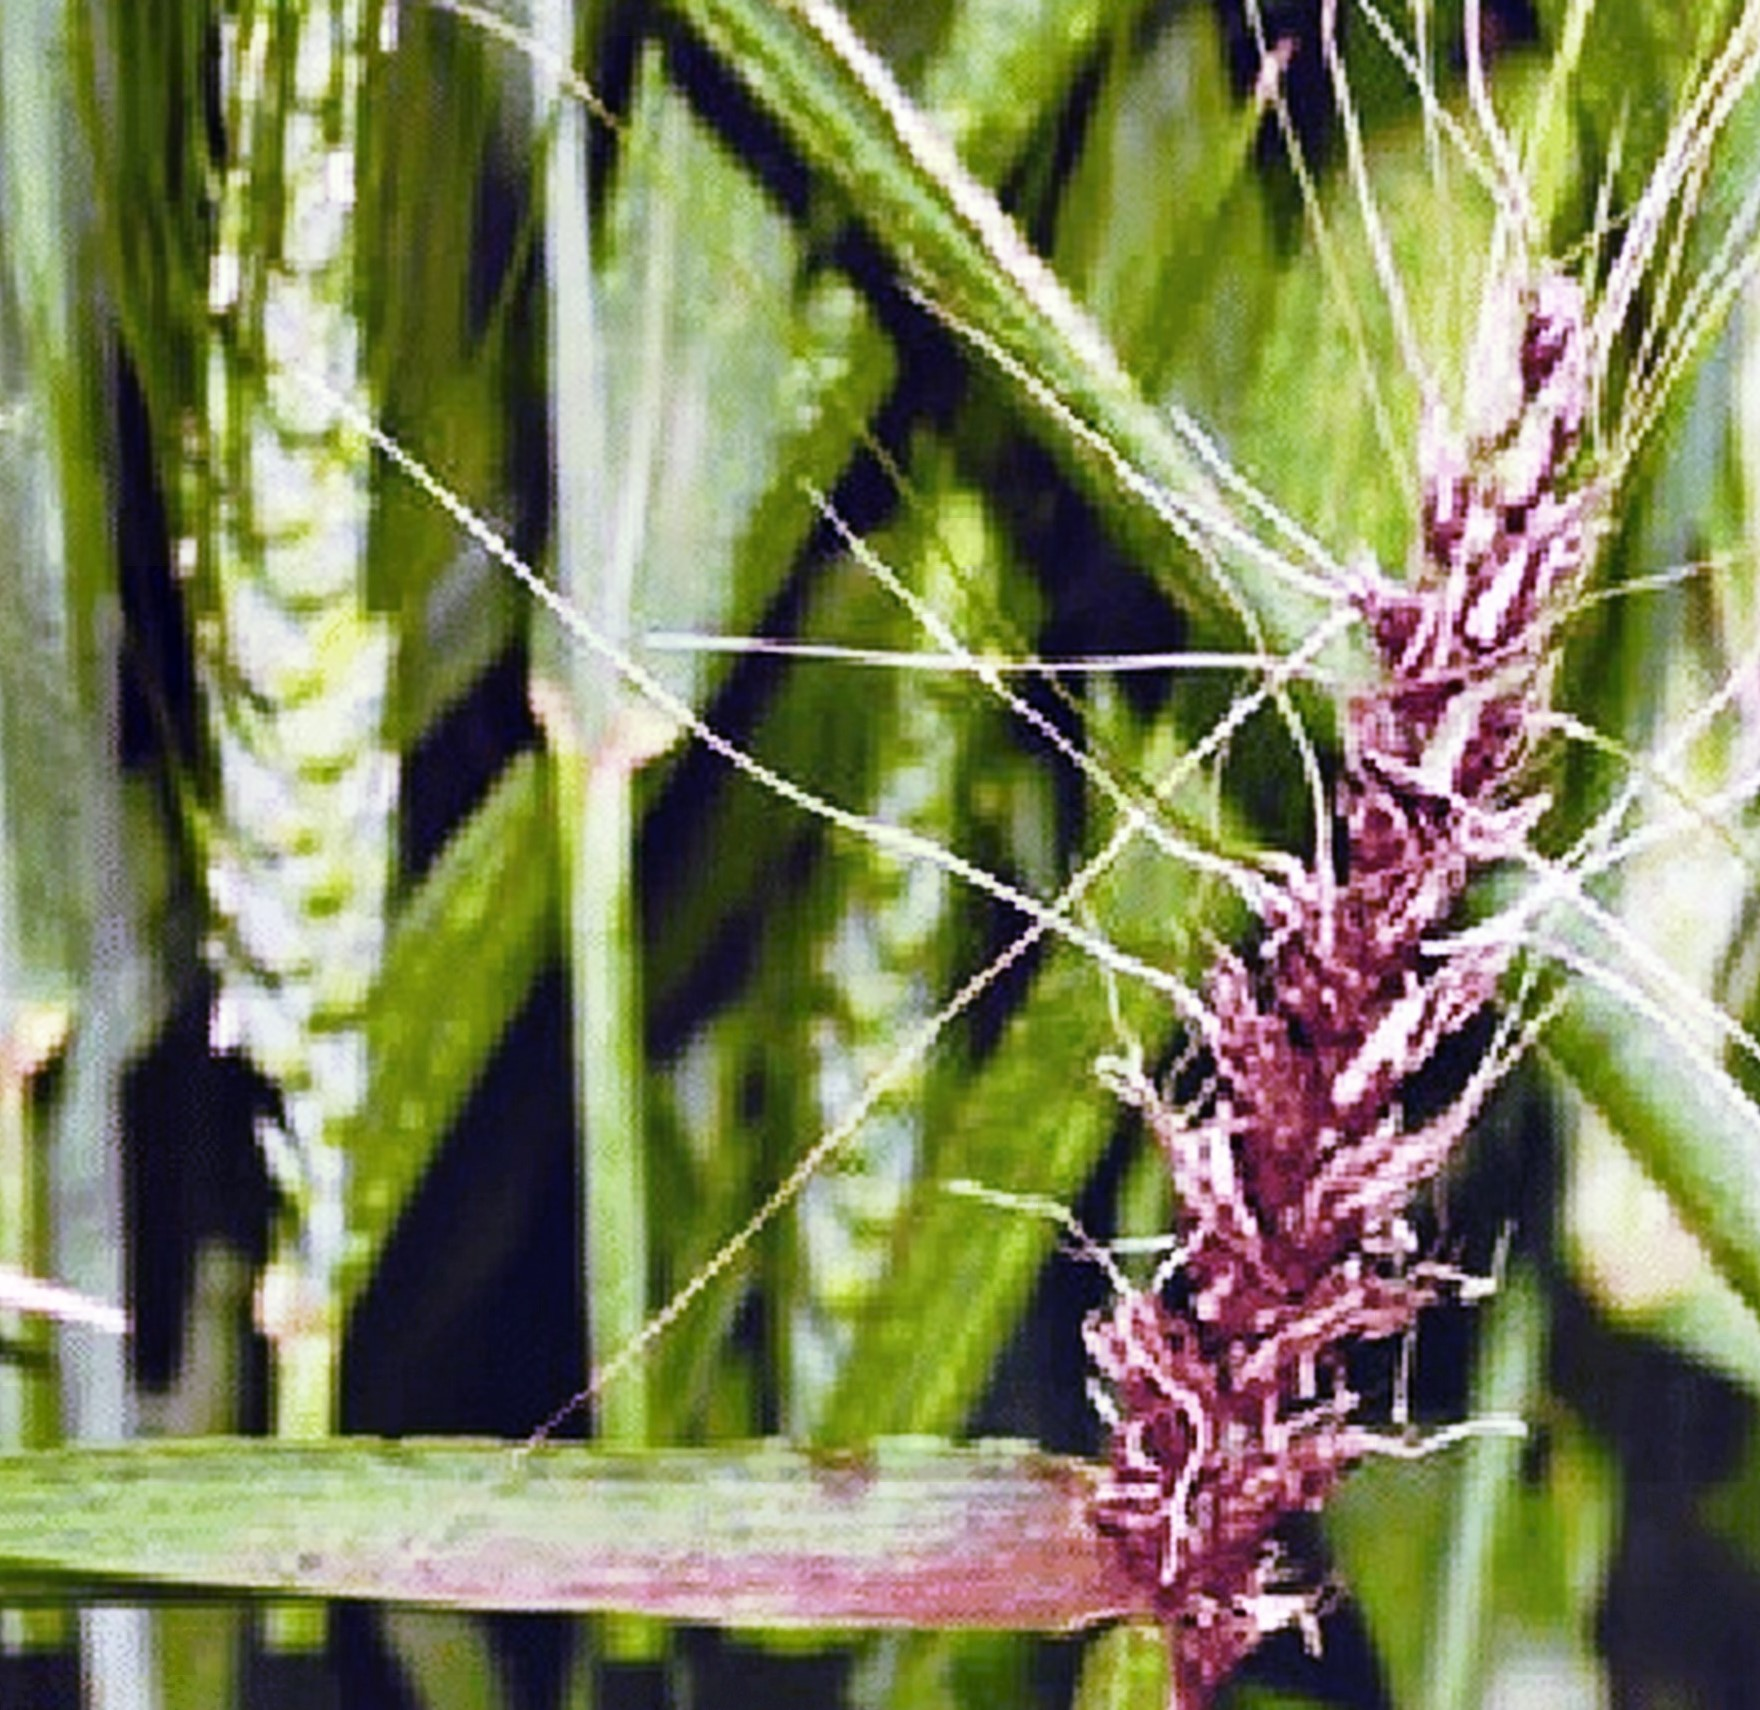Wheat Loose Smut: (1100, 264, 1702, 1553)
